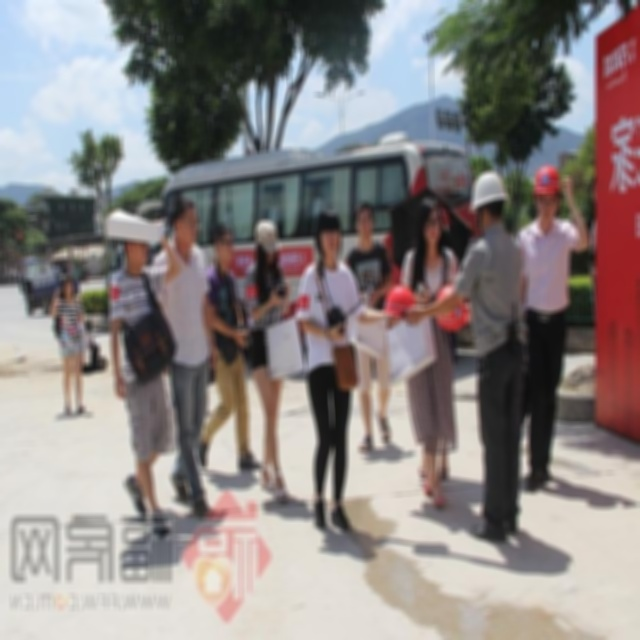Sin_Casco_Mascarrilla: (313, 204, 343, 263), (415, 199, 445, 246), (212, 222, 236, 268)
